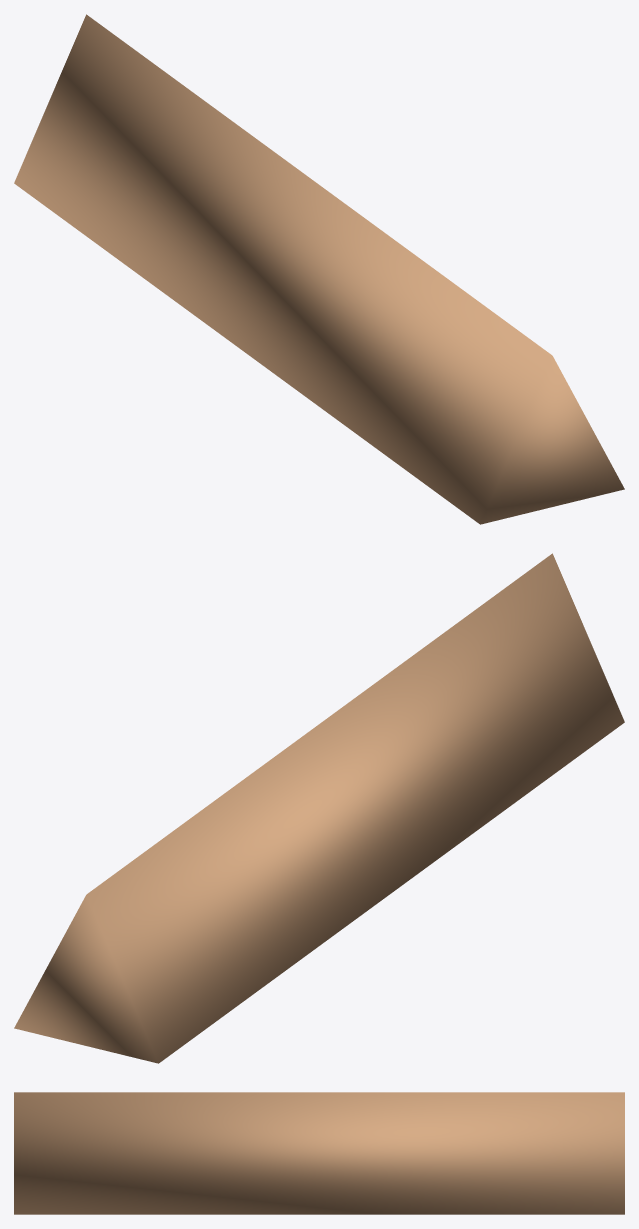
The model's file is Prop_NameTag.fbx.
3 views of the same model, one above another, from view 1: azimuth 30°, elevation 25°; view 2: azimuth 150°, elevation 25°; view 3: azimuth 270°, elevation 25° (orthographic). The views are drawn at different scales.
Parts seen in each view (by area): view 1: Plane_001; view 2: Plane_001; view 3: Plane_001.
Part boxes in pixels (<box>): Plane_001: <box>14,14,624,524</box>; Plane_001: <box>14,553,624,1063</box>; Plane_001: <box>14,1092,624,1214</box>.
Bounding box in the file's own units: 0.1715 × 0.1715 × 0.9573.
